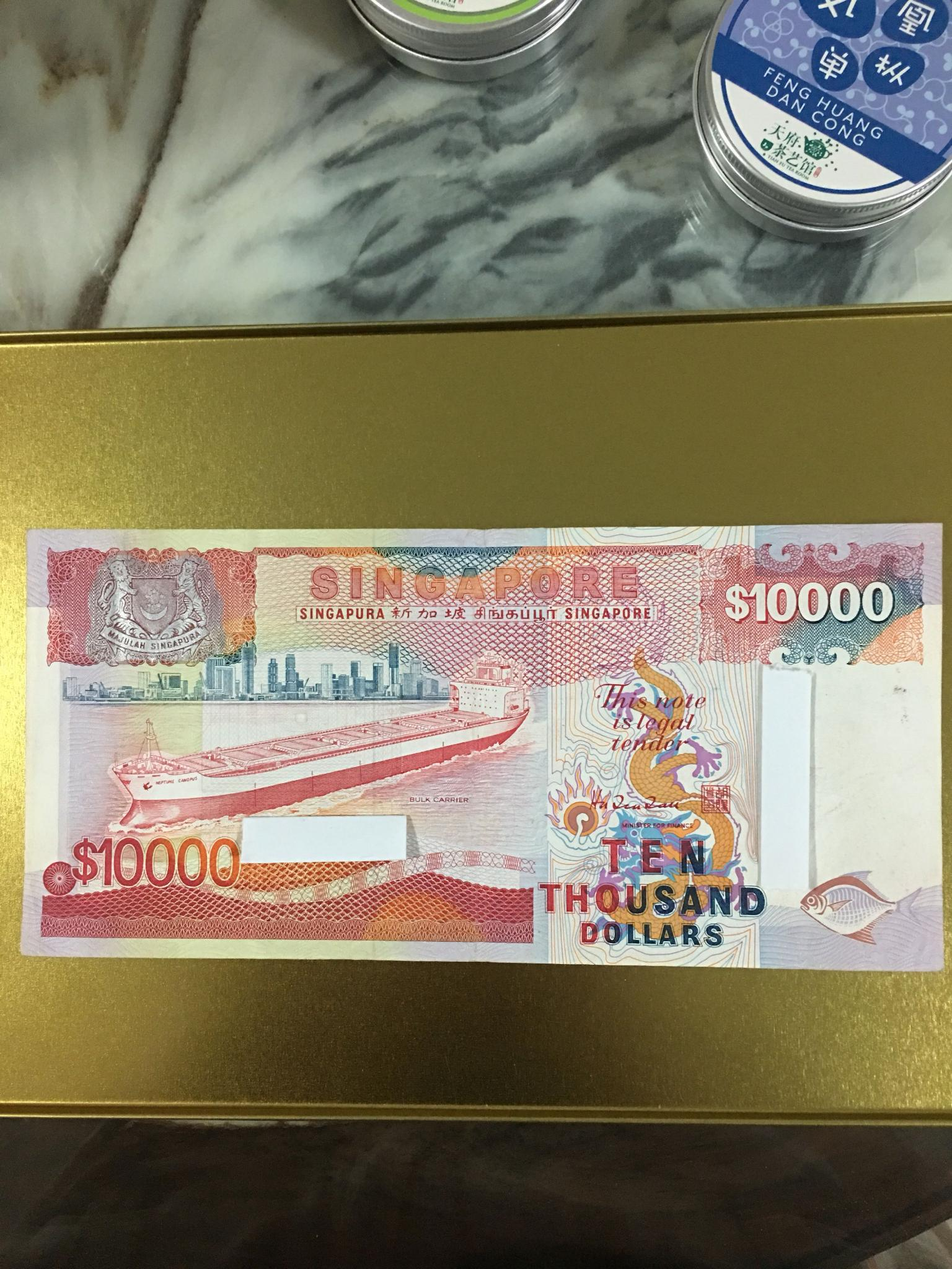10000SingaporeDollar: (29, 531, 939, 954)
